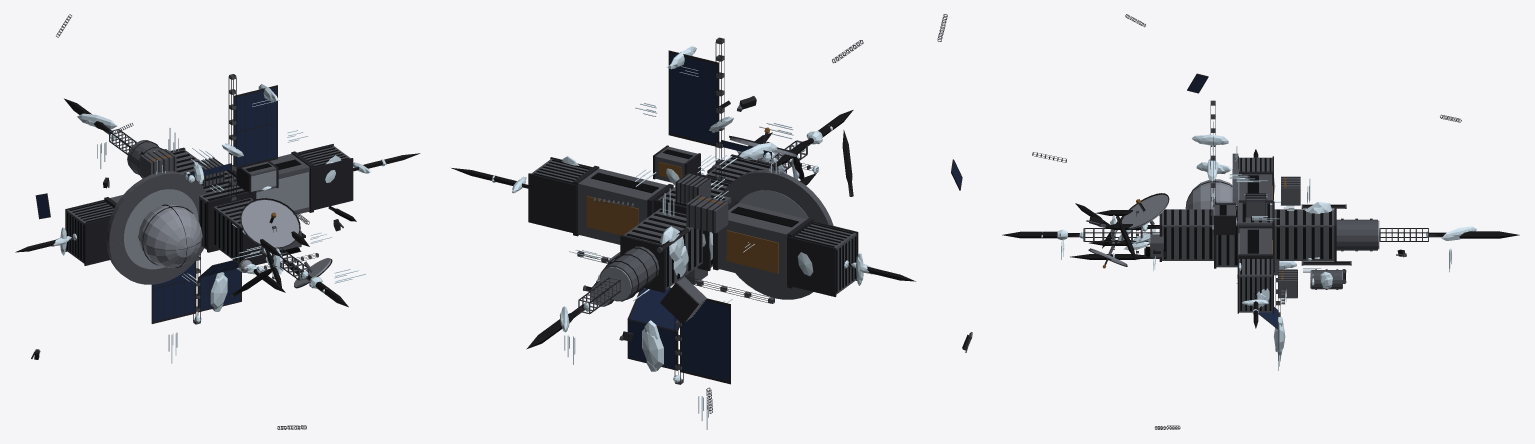
The model's file is relais_posten.obj.
The picture shows the model from 3 angles, left to right: view 1: azimuth 30°, elevation 25°; view 2: azimuth 150°, elevation 25°; view 3: azimuth 270°, elevation 25°; orthographic projection. The views are drawn at different scales.
Visible parts, largest first — view 1: hull, hull2, pale, solar, ice, window, light; view 2: hull, hull2, solar, ice, window, accent, light, pale; view 3: hull, hull2, window, ice, pale, light.
Part boxes in pixels (box(x1,y1,x2,y2)): hull: box(31, 14, 350, 429); hull2: box(34, 15, 356, 429); pale: box(123, 170, 331, 286); solar: box(36, 88, 276, 321); ice: box(51, 84, 386, 363); window: box(67, 146, 348, 262); light: box(15, 98, 420, 307); hull: box(531, 14, 972, 413); hull2: box(523, 14, 971, 412); solar: box(629, 53, 961, 381); ice: box(491, 46, 874, 429); window: box(533, 149, 856, 292); accent: box(586, 127, 778, 308); light: box(451, 104, 915, 349); pale: box(591, 137, 808, 305); hull: box(1032, 14, 1461, 429); hull2: box(1033, 14, 1461, 429); window: box(1164, 158, 1331, 310); ice: box(1041, 134, 1476, 370); pale: box(1089, 169, 1379, 288); light: box(1002, 149, 1519, 328).
Bounding box in the file's own units: 22.77 × 19.16 × 26.77.
